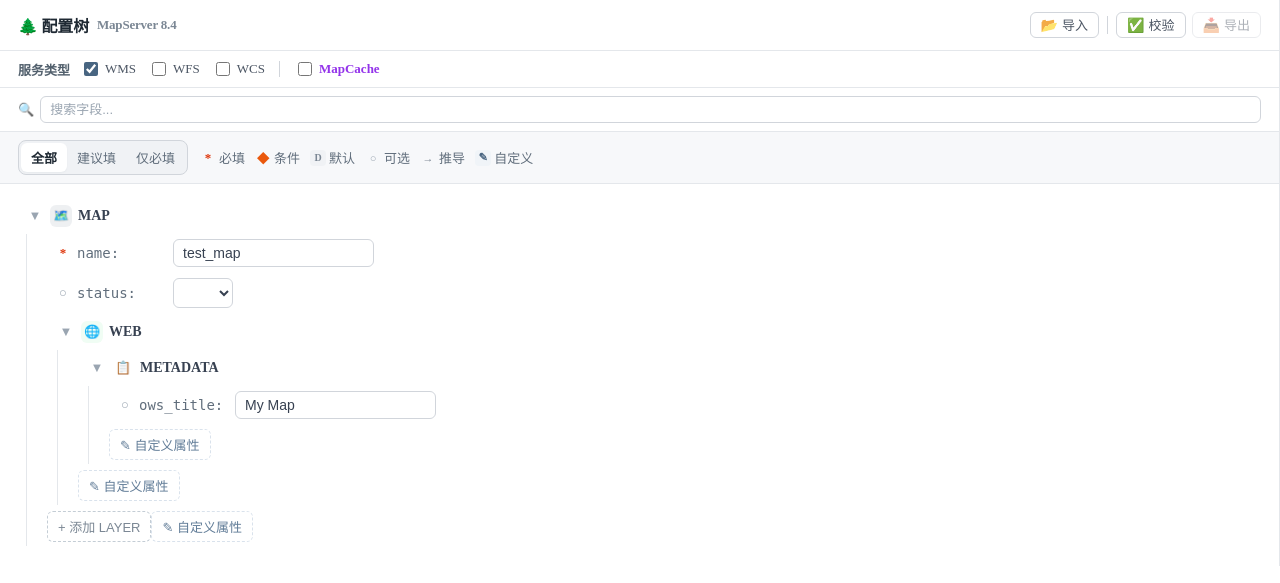
Test: ConfigTreePanel — Search › clear button resets search
Type "name" into the field with class "search-input" at (651, 110), box [40,96,1261,123]
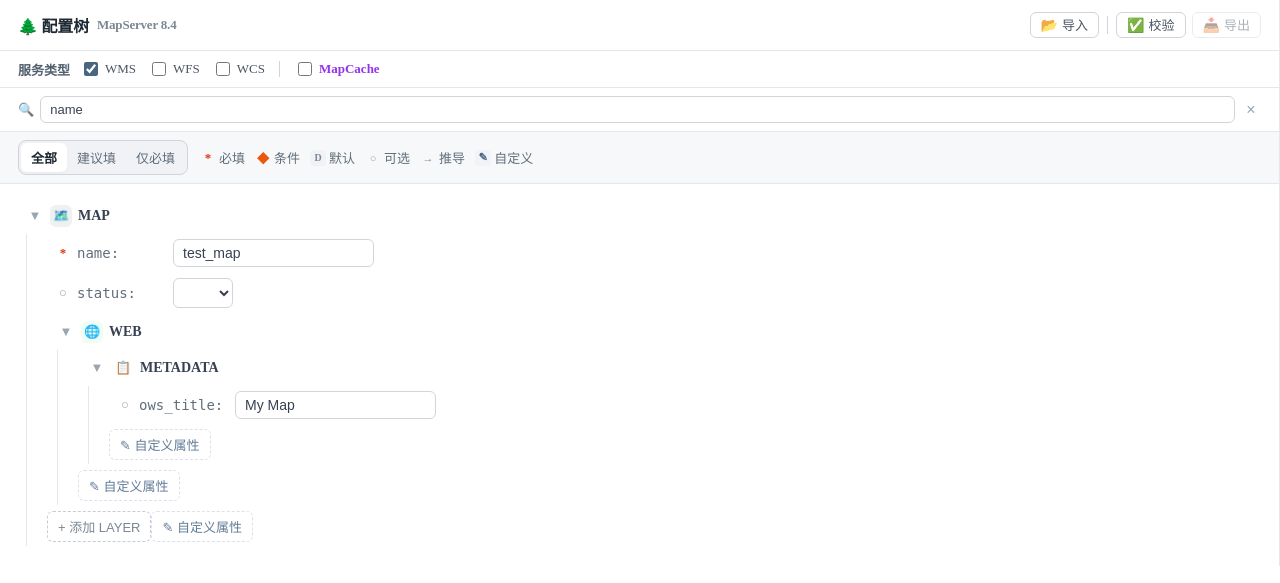
Focus the field with class "search-input" at (638, 110), box [40,96,1235,123]
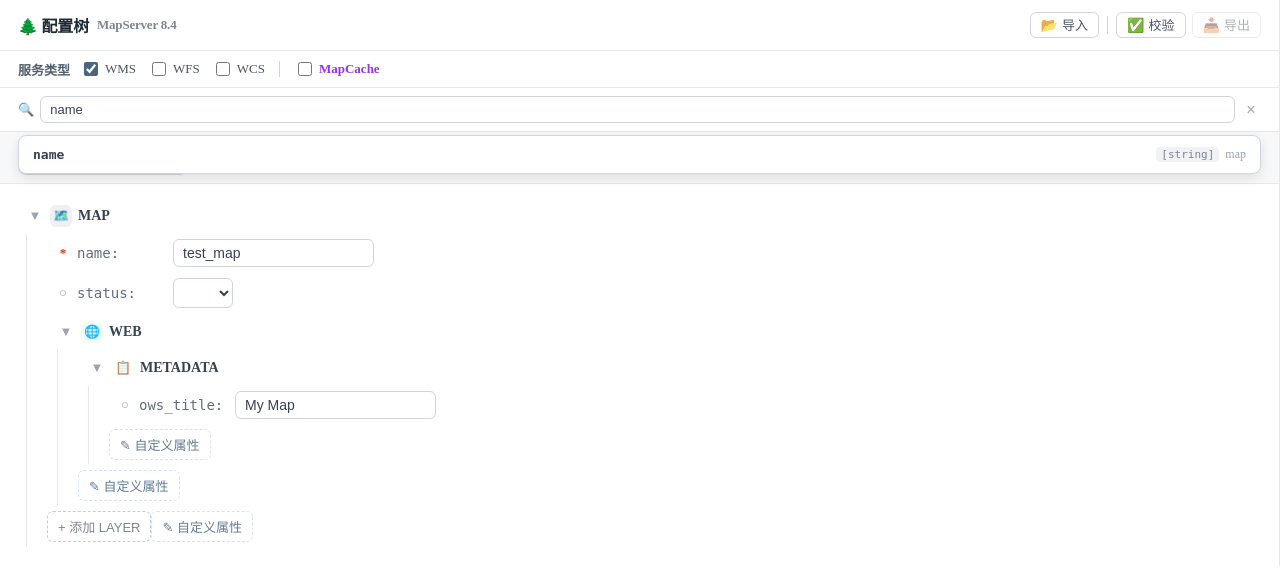
Expected: the button with class "search-clear" is shown
Click the button with class "search-clear" at (1251, 110), box [1241,100,1261,120]
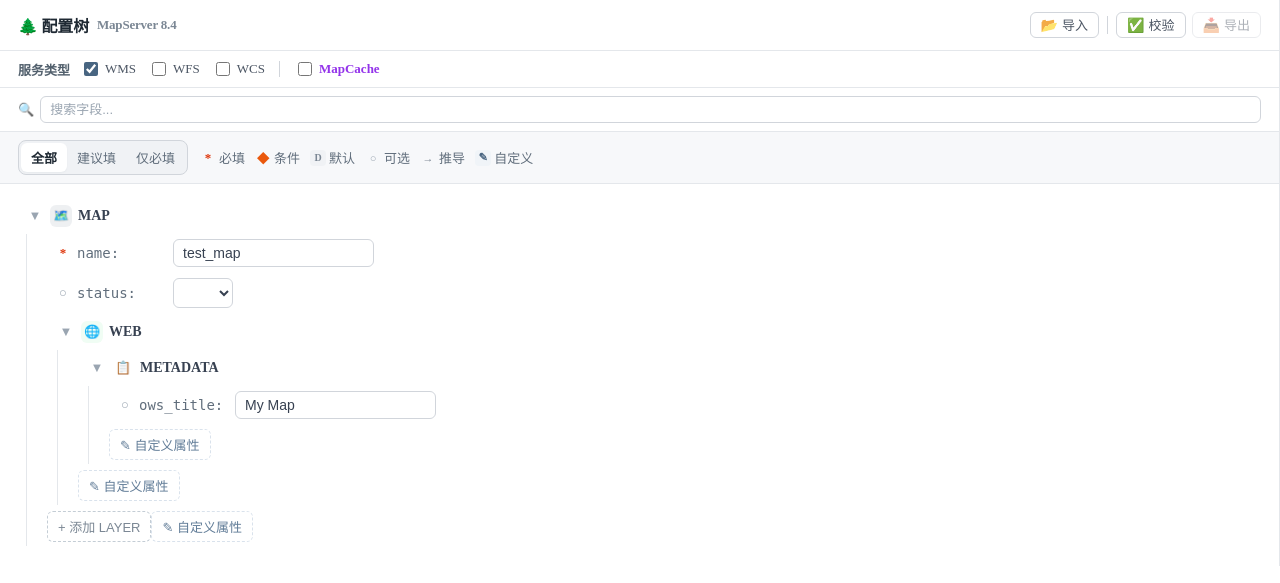
Expected: the field with class "search-input" is empty, [40,96,1261,123]
